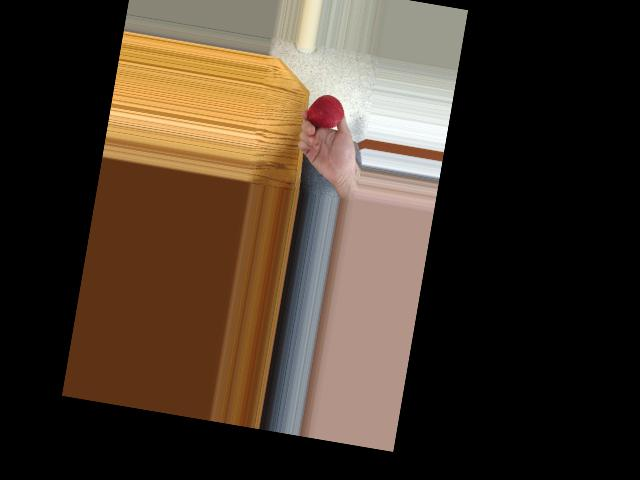apple: (304, 90, 349, 135)
